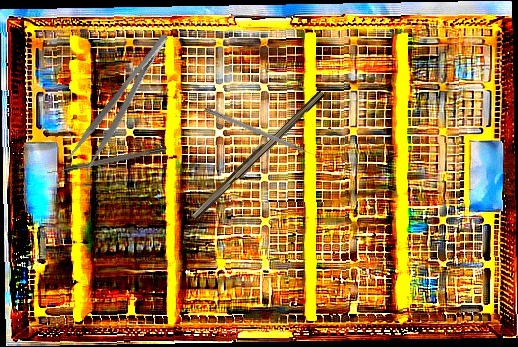Dressing Forceps: (64, 30, 183, 174)
Hook Surgical: (203, 106, 324, 162), (46, 146, 166, 176)
Scalpel Handle: (188, 86, 326, 223)
